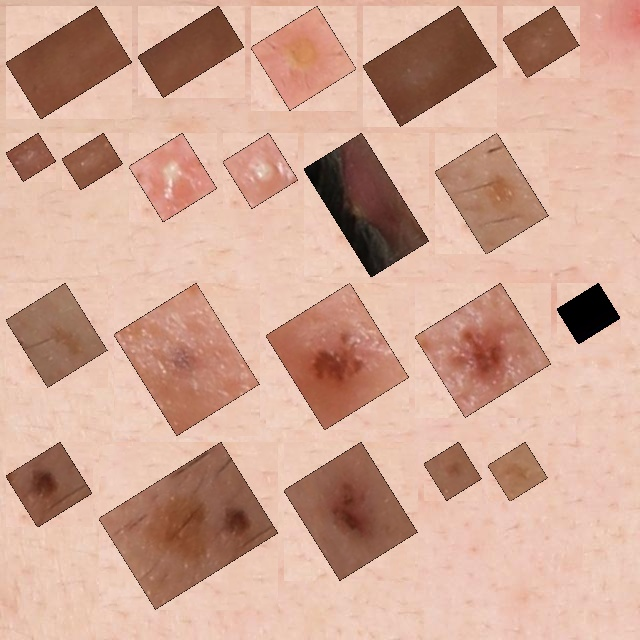hypertrophic_scar: (374, 17, 485, 115), (17, 17, 121, 108), (149, 17, 233, 86), (514, 17, 568, 66), (73, 144, 112, 178), (17, 144, 45, 170)
melasma: (110, 453, 267, 598), (125, 294, 248, 424), (446, 144, 537, 243), (17, 294, 96, 376), (499, 453, 537, 490)
nevus: (277, 294, 398, 419), (295, 453, 406, 569), (426, 294, 540, 406), (17, 453, 81, 516), (568, 294, 609, 333), (435, 453, 471, 489)
pustule: (315, 144, 418, 266), (262, 17, 345, 99), (140, 144, 206, 210), (234, 144, 287, 197)
